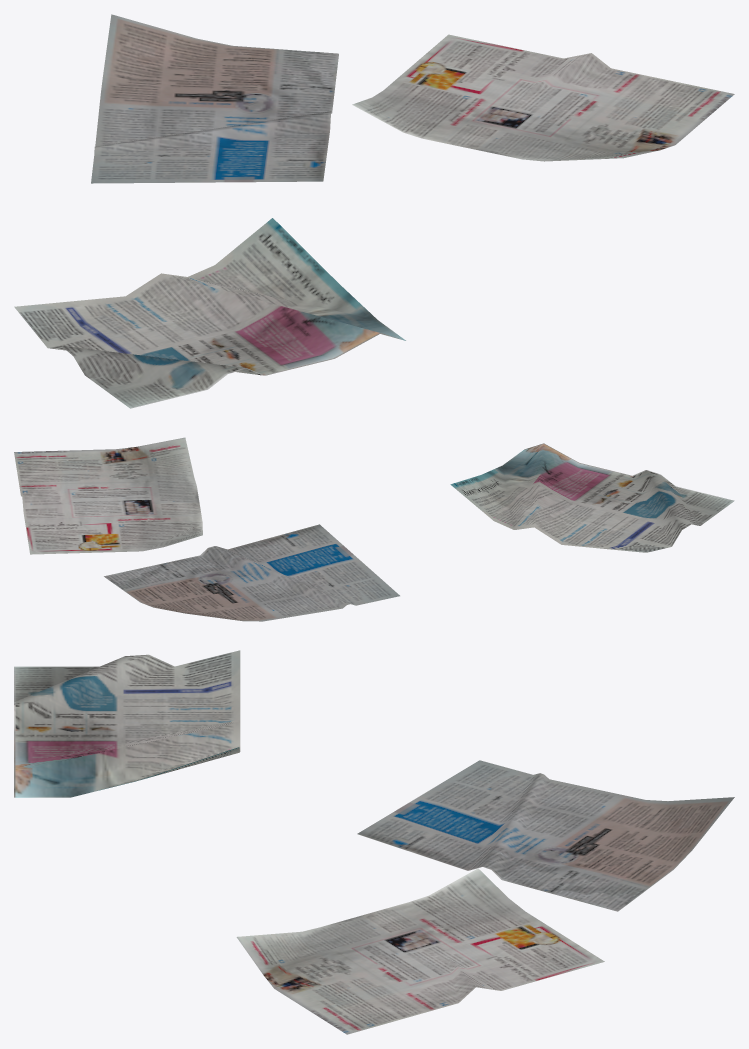
File: Garbage_07.fbx
3 renders of one model, top to bottom at view 1: azimuth 30°, elevation 25°; view 2: azimuth 150°, elevation 25°; view 3: azimuth 270°, elevation 25°, orthographic. The views are drawn at different scales.
Visible parts, largest first — view 1: polySurface854; view 2: polySurface854; view 3: polySurface854.
Part boxes in pixels (x1,y1,x2,y2): polySurface854: (14,14,734,408); polySurface854: (14,437,734,621); polySurface854: (14,650,734,1034).
Size of the model in its own units: 252 by 13.41 by 208.
